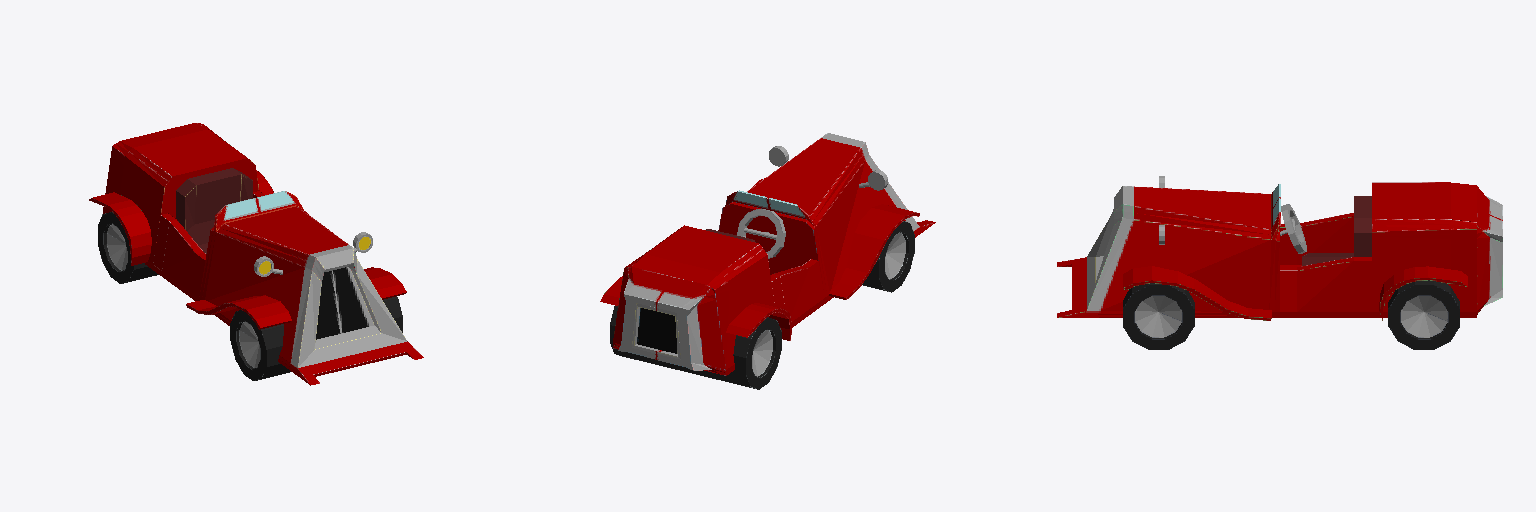
3 views of the same model, side by side, from view 1: azimuth 30°, elevation 25°; view 2: azimuth 150°, elevation 25°; view 3: azimuth 270°, elevation 25° (orthographic).
Visible parts, largest first — view 1: cuboid, cylinder, plane; view 2: cuboid, cylinder, plane; view 3: cuboid, cylinder, plane.
Boxes of the visible parts, box(x1,y1,x2,y2) form: cuboid: box(103, 123, 423, 385); cylinder: box(98, 212, 402, 380); plane: box(89, 170, 406, 329); cuboid: box(613, 133, 935, 375); cylinder: box(610, 146, 914, 389); plane: box(600, 178, 919, 340); cuboid: box(1057, 182, 1502, 317); cylinder: box(1123, 176, 1459, 349); plane: box(1123, 266, 1467, 320).
Bounding box in the file's own units: 0.8125 × 0.6406 × 2.12.
Materials: 1 (1 with a texture image).